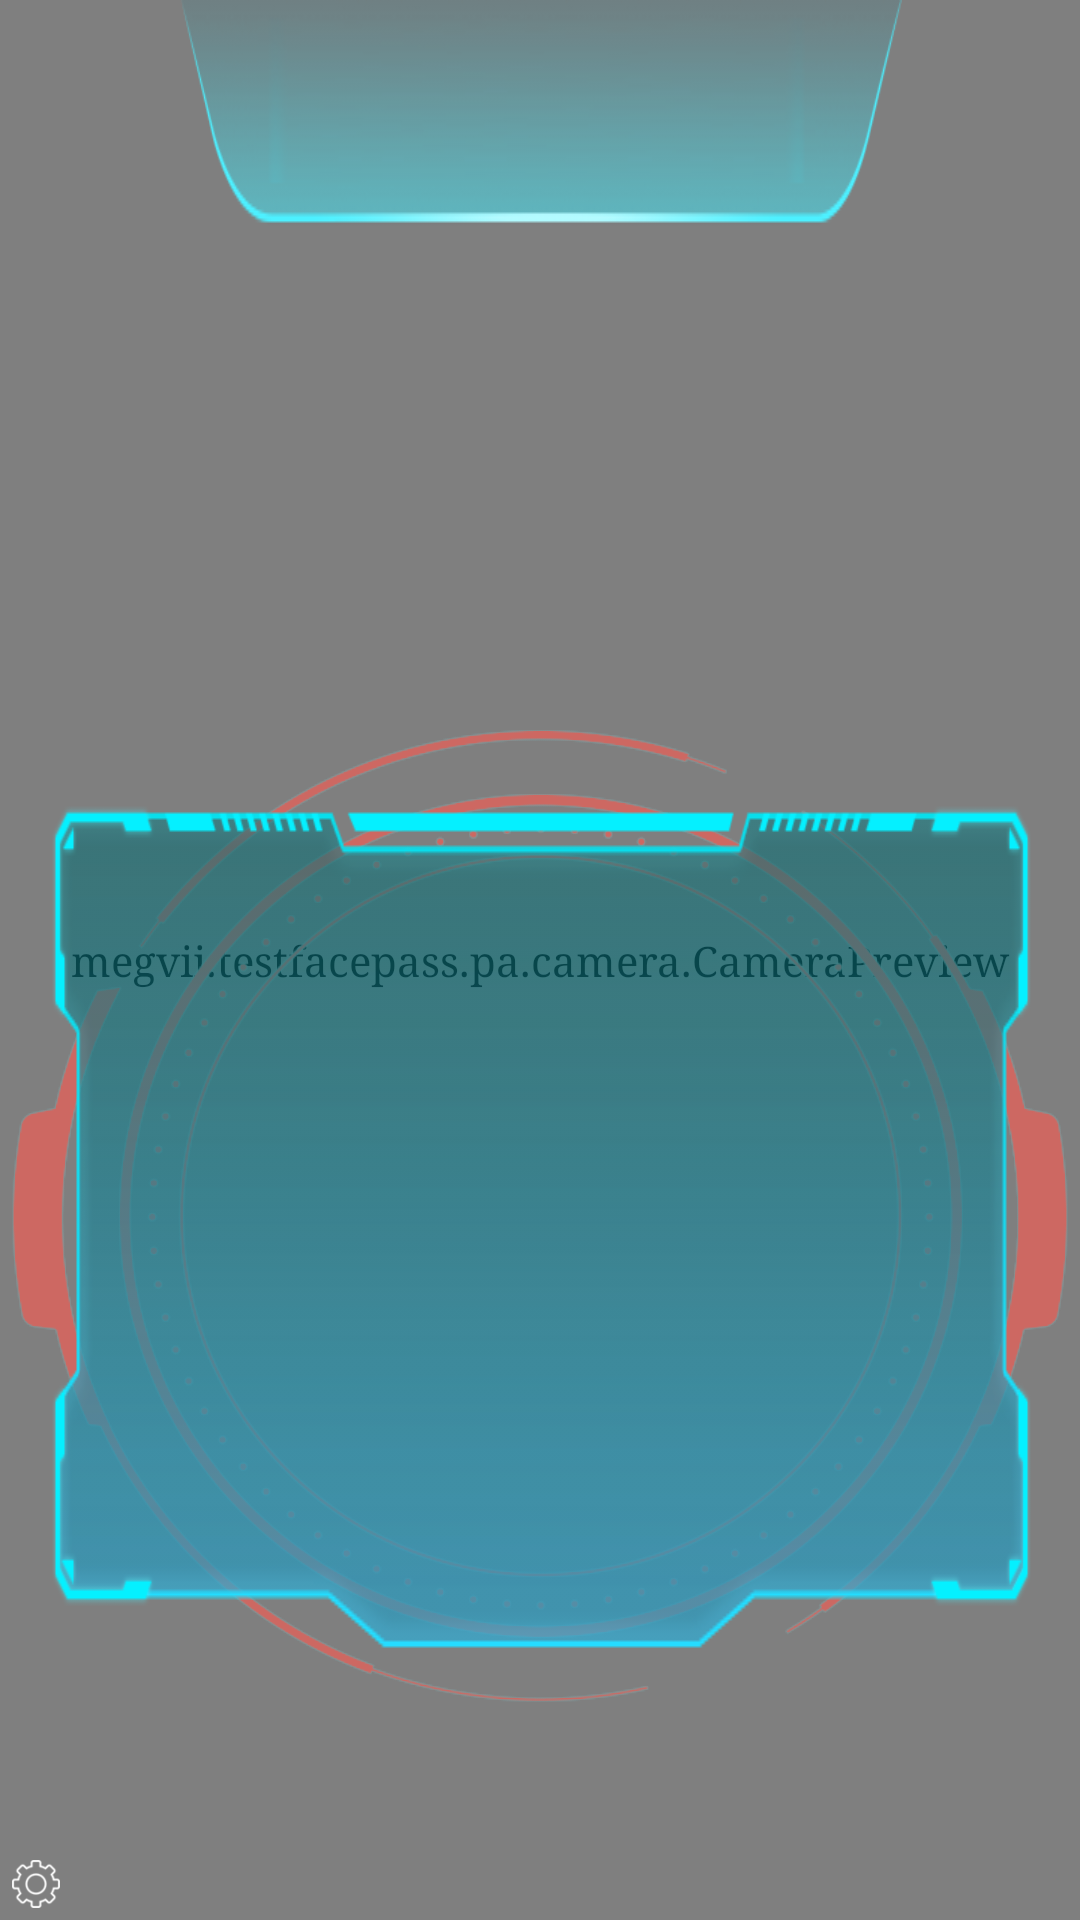

Point at icon controls on the screen. Image size 1080px x 1920px, points as (x,y).
shezhibg: (36,1884)
